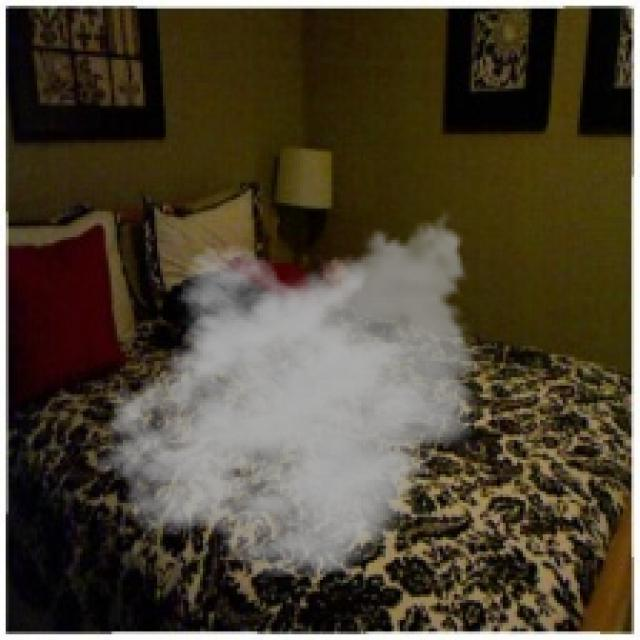Smoke: (91, 205, 488, 580)
